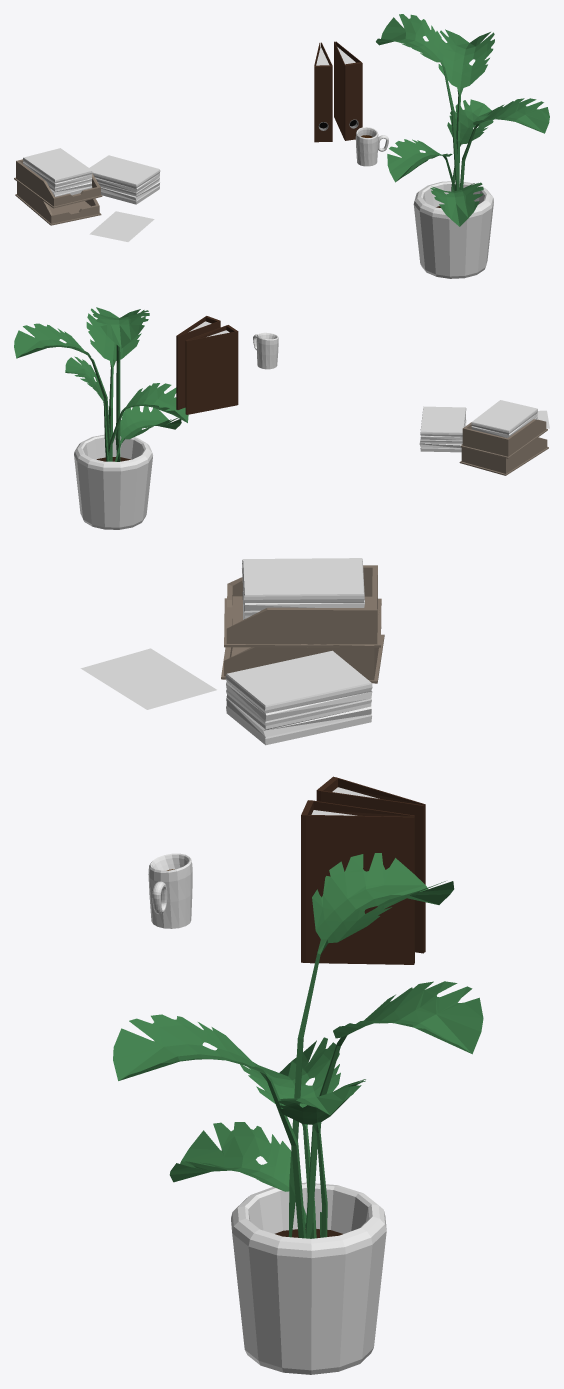
File: decor.glb
3 views of the same model, one above another, from view 1: azimuth 30°, elevation 25°; view 2: azimuth 150°, elevation 25°; view 3: azimuth 270°, elevation 25° (orthographic). The views are drawn at different scales.
Parts seen in each view (by area): view 1: plant, paper_stack_1, binder_2, paper_stack_2, binder_1, paper_holder_bottom, paper_holder_top, paper, coffee; view 2: plant, binder_1, paper_stack_1, paper_holder_top, paper_stack_2, paper_holder_bottom, binder_2, coffee; view 3: plant, binder_2, paper_stack_1, paper_holder_top, paper_stack_2, paper, binder_1, paper_holder_bottom, coffee.
Part boxes in pixels (x1,y1,x2,y2): plant: (376, 14, 549, 278); paper_stack_1: (89, 155, 160, 204); binder_2: (334, 41, 362, 140); paper_stack_2: (23, 148, 92, 196); binder_1: (314, 42, 332, 142); paper_holder_bottom: (15, 181, 101, 225); paper_holder_top: (14, 159, 102, 208); paper: (89, 211, 154, 241); coffee: (355, 127, 388, 166); plant: (14, 307, 188, 529); binder_1: (185, 325, 238, 414); paper_stack_1: (419, 406, 466, 452); paper_holder_top: (461, 419, 547, 458); paper_stack_2: (471, 400, 537, 438); paper_holder_bottom: (459, 437, 548, 475); binder_2: (176, 316, 220, 409); coffee: (253, 332, 278, 369); plant: (113, 853, 483, 1374); binder_2: (301, 800, 414, 964); paper_stack_1: (225, 650, 372, 745); paper_holder_top: (224, 565, 381, 647); paper_stack_2: (242, 558, 364, 619); paper: (80, 648, 216, 709); binder_1: (316, 776, 425, 953); paper_holder_bottom: (221, 601, 384, 683); coffee: (148, 853, 192, 928).
Bounding box in the file's own units: 9.07 × 4.09 × 3.29.
